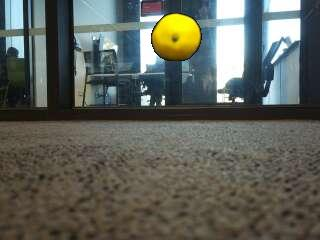lemon: (152, 15, 200, 62)
